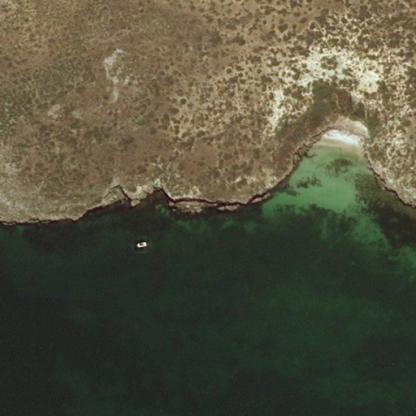ship: (129, 234, 154, 255)
